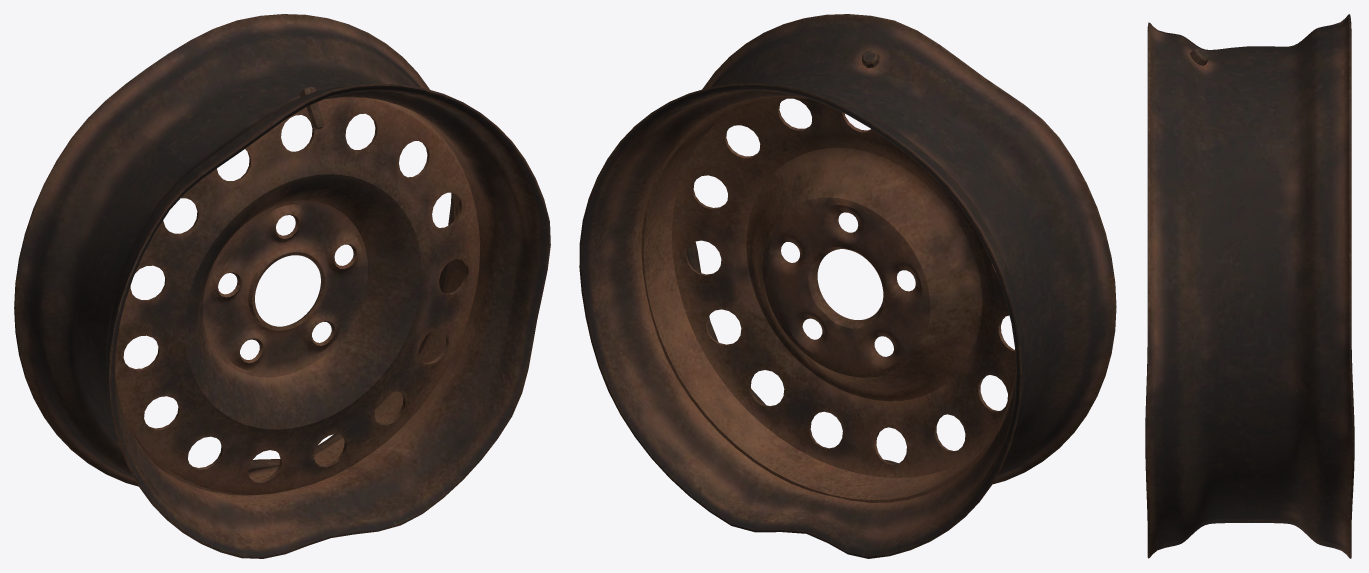
The model's file is prop-wheel-rim-rusted-a.glb.
3 renders of one model, left to right at view 1: azimuth 30°, elevation 25°; view 2: azimuth 150°, elevation 25°; view 3: azimuth 270°, elevation 25°, orthographic. The views are drawn at different scales.
Visible parts, largest first — view 1: rusted_wheel_rim_01; view 2: rusted_wheel_rim_01; view 3: rusted_wheel_rim_01.
Part boxes in pixels (x1,y1,x2,y2): rusted_wheel_rim_01: (14, 14, 550, 558); rusted_wheel_rim_01: (579, 14, 1116, 558); rusted_wheel_rim_01: (1145, 14, 1354, 558).
Bounding box in the file's own units: 0.4029 × 0.3955 × 0.1541.
Materials: 1 (1 with a texture image).
